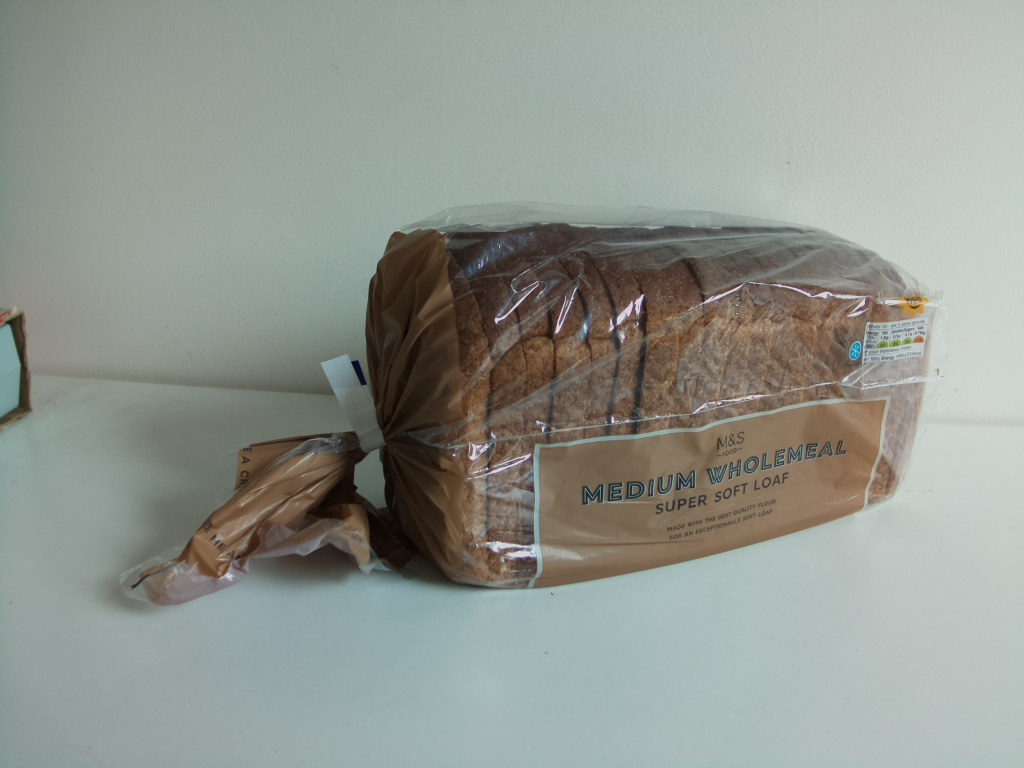bread: (119, 208, 942, 605)
